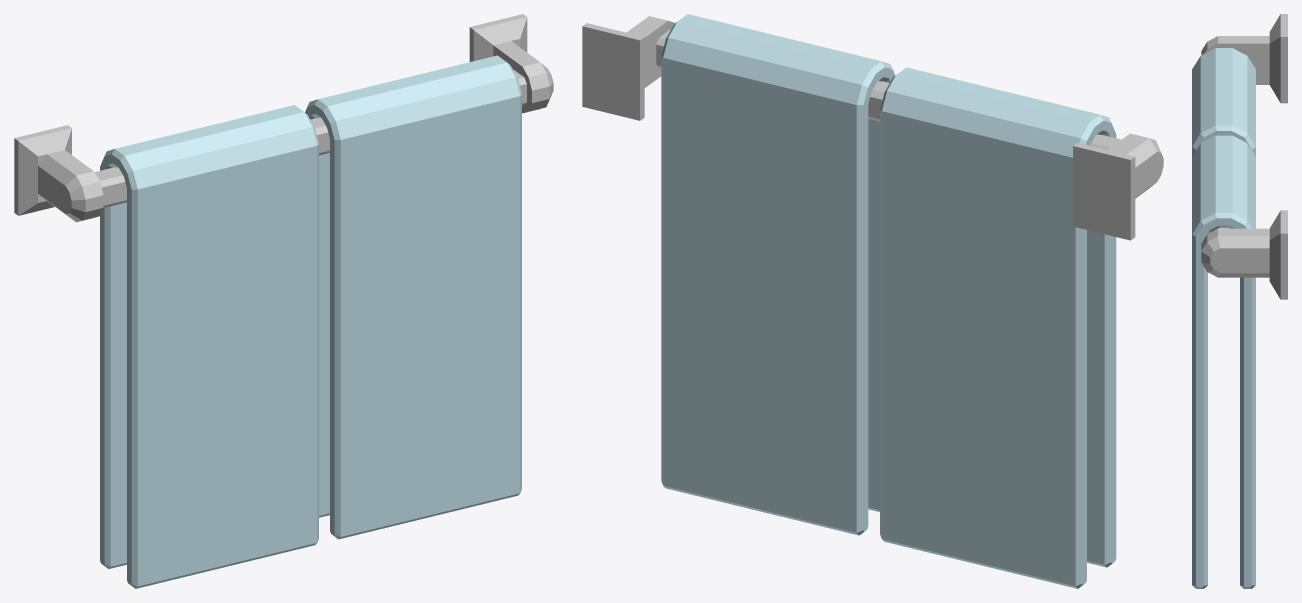
Rendered from DoubleTowelRack.fbx.
3 renders of one model, left to right at view 1: azimuth 30°, elevation 25°; view 2: azimuth 150°, elevation 25°; view 3: azimuth 270°, elevation 25°, orthographic. The views are drawn at different scales.
Parts seen in each view (by area): view 1: object2, object2.001, object1; view 2: object2, object2.001, object1; view 3: object2.001, object1, object2.
Boxes of the visible parts, x1,y1,x2,y2 form: object2: [100, 105, 318, 588]; object2.001: [305, 55, 521, 539]; object1: [14, 14, 553, 222]; object2: [880, 67, 1116, 588]; object2.001: [661, 14, 895, 535]; object1: [582, 16, 1163, 240]; object2.001: [1192, 135, 1255, 588]; object1: [1201, 14, 1287, 299]; object2: [1192, 48, 1255, 156].
Bounding box in the file's own units: 71.25 × 57.5 × 13.12.
